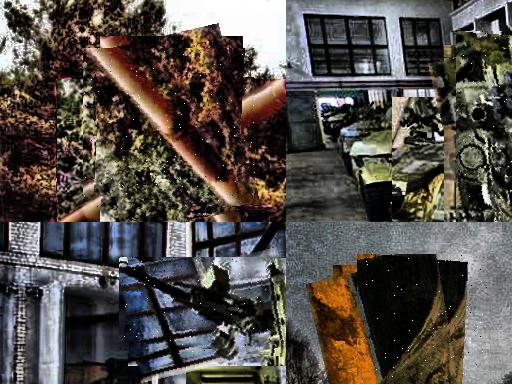tanks: (85, 50, 255, 209), (121, 259, 287, 354), (350, 107, 445, 221), (458, 62, 512, 223), (444, 103, 457, 117)
